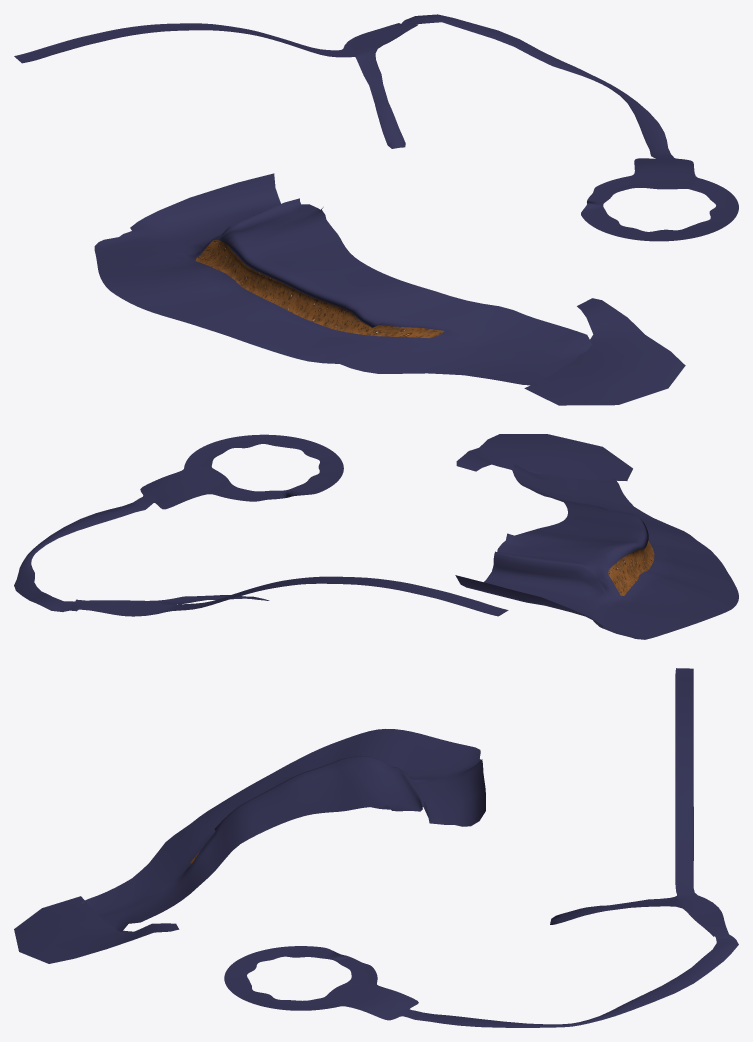
Rendered from CollisionFloorsMineV2.fbx.
3 renders of one model, top to bottom at view 1: azimuth 30°, elevation 25°; view 2: azimuth 150°, elevation 25°; view 3: azimuth 270°, elevation 25°, orthographic. The views are drawn at different scales.
Visible parts, largest first — view 1: Colis.001, Colis, Collis.001; view 2: Colis.001, Colis, Collis.001; view 3: Colis.001, Colis, Collis.001.
Boxes of the visible parts, box(x1,y1,x2,y2) form: Colis.001: box(94, 173, 592, 385); Colis: box(14, 14, 738, 241); Collis.001: box(524, 298, 685, 405); Colis.001: box(455, 464, 738, 639); Colis: box(14, 434, 508, 616); Collis.001: box(456, 434, 632, 480); Colis.001: box(81, 729, 485, 931); Colis: box(224, 668, 738, 1027); Collis.001: box(14, 896, 179, 963).
Size of the model in its own units: 12823 by 3097 by 13878.
